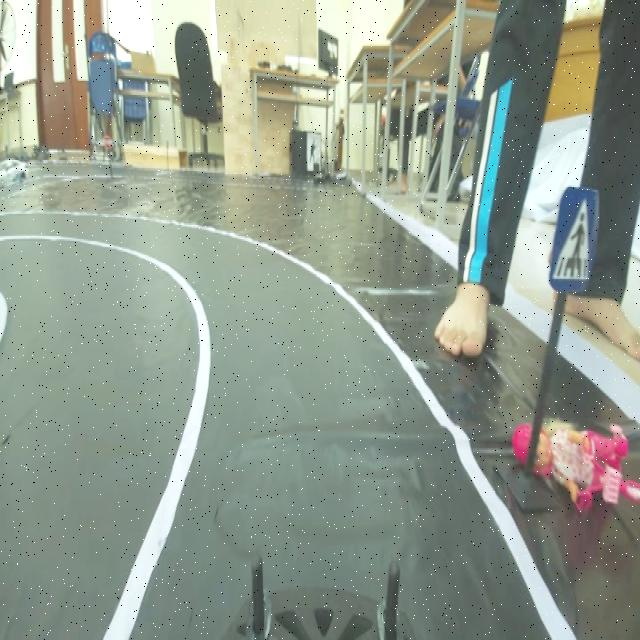crosswalk: (548, 181, 600, 296)
